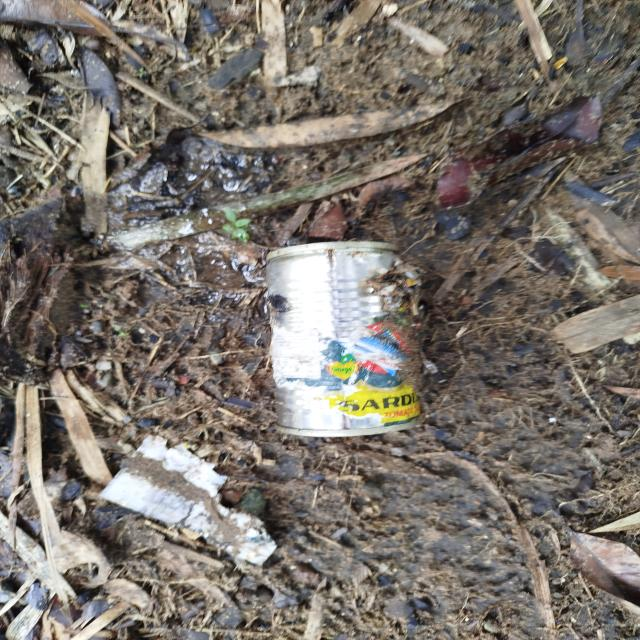metal: (250, 236, 480, 453)
